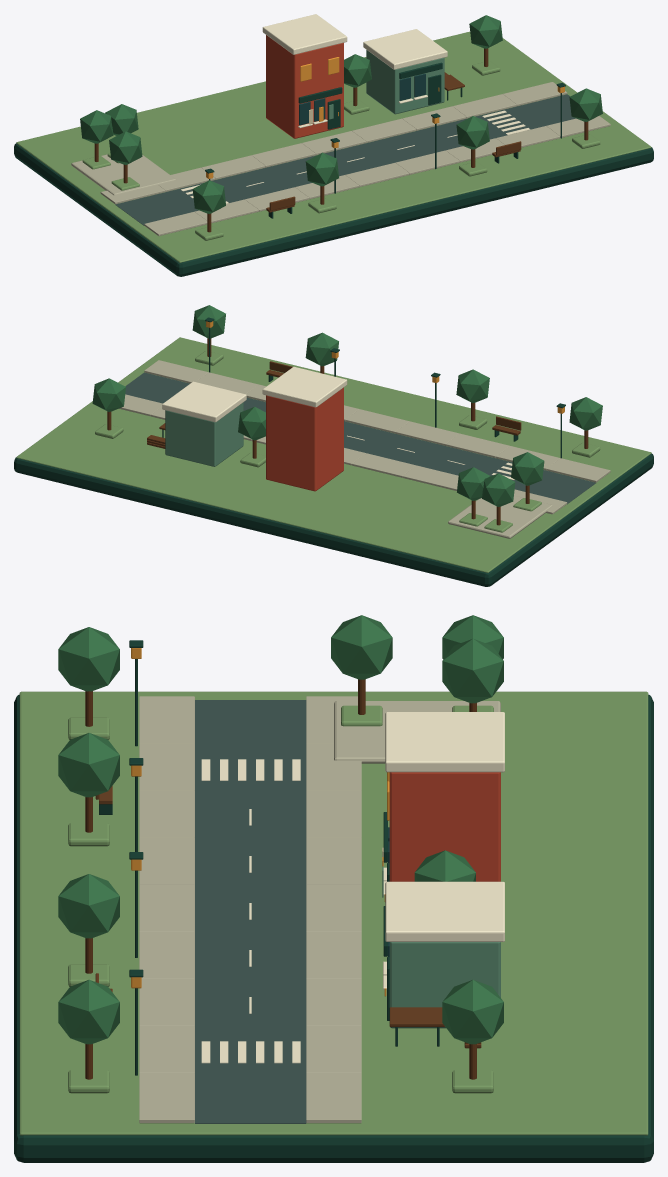
The model's file is foundry_lane.glb.
The picture shows the model from 3 angles, top to bottom: view 1: azimuth 30°, elevation 25°; view 2: azimuth 150°, elevation 25°; view 3: azimuth 270°, elevation 25°; orthographic projection. The views are drawn at different scales.
Parts seen in each view (by area): view 1: District ground, Diorama plinth, Storefront-col, Storefront-col.001, Flat parapet roof, Flat parapet roof.001, Pocket park, Road_Straight_4m, Road_Straight_4m.002, Road_Straight_4m.005, Road_Straight_4m.004, Road_Straight_4m.008 (+32 smaller); view 2: District ground, Diorama plinth, Storefront-col, Storefront-col.001, Flat parapet roof, Flat parapet roof.001, Pocket park, Road_Straight_4m.003, Road_Straight_4m, Road_Straight_4m.002, Road_Straight_4m.008, Road_Straight_4m.004 (+21 smaller); view 3: District ground, Diorama plinth, Storefront-col, Flat parapet roof, Flat parapet roof.001, Storefront-col.001, Road_Straight_4m.008, Road_Straight_4m.003, Road_Straight_4m.004, Road_Straight_4m.005, Road_Straight_4m.006, Road_Straight_4m (+36 smaller).
Boxes of the visible parts, left/top/right/bottom form: District ground: left=16, top=31, right=651, bottom=262; Diorama plinth: left=14, top=143, right=653, bottom=276; Storefront-col: left=266, top=35, right=343, bottom=138; Storefront-col.001: left=366, top=50, right=444, bottom=114; Flat parapet roof: left=262, top=14, right=347, bottom=54; Flat parapet roof.001: left=363, top=29, right=447, bottom=69; Pocket park: left=71, top=154, right=175, bottom=195; Road_Straight_4m: left=115, top=192, right=191, bottom=225; Road_Straight_4m.002: left=216, top=168, right=292, bottom=199; Road_Straight_4m.005: left=366, top=131, right=443, bottom=162; Road_Straight_4m.004: left=316, top=143, right=392, bottom=175; Road_Straight_4m.008: left=517, top=94, right=575, bottom=126; District ground: left=16, top=337, right=651, bottom=572; Diorama plinth: left=14, top=453, right=653, bottom=586; Storefront-col: left=266, top=387, right=343, bottom=491; Storefront-col.001: left=165, top=402, right=243, bottom=466; Flat parapet roof: left=262, top=366, right=347, bottom=407; Flat parapet roof.001: left=162, top=381, right=246, bottom=422; Pocket park: left=448, top=495, right=552, bottom=538; Road_Straight_4m.003: left=368, top=434, right=444, bottom=465; Road_Straight_4m: left=519, top=470, right=595, bottom=504; Road_Straight_4m.002: left=419, top=446, right=495, bottom=475; Road_Straight_4m.008: left=125, top=372, right=189, bottom=403; Road_Straight_4m.004: left=344, top=421, right=394, bottom=453; District ground: left=19, top=691, right=648, bottom=1135; Diorama plinth: left=14, top=694, right=653, bottom=1162; Storefront-col: left=389, top=772, right=500, bottom=881; Flat parapet roof: left=385, top=712, right=504, bottom=772; Flat parapet roof.001: left=385, top=881, right=504, bottom=941; Storefront-col.001: left=389, top=942, right=500, bottom=1028; Road_Straight_4m.008: left=195, top=1076, right=306, bottom=1123; Road_Straight_4m.003: left=195, top=841, right=306, bottom=888; Road_Straight_4m.004: left=195, top=888, right=306, bottom=935; Road_Straight_4m.005: left=195, top=935, right=306, bottom=982; Road_Straight_4m.006: left=195, top=982, right=306, bottom=1029; Road_Straight_4m: left=195, top=700, right=306, bottom=746.
Size of the model in its own units: 38 by 8.19 by 23.
